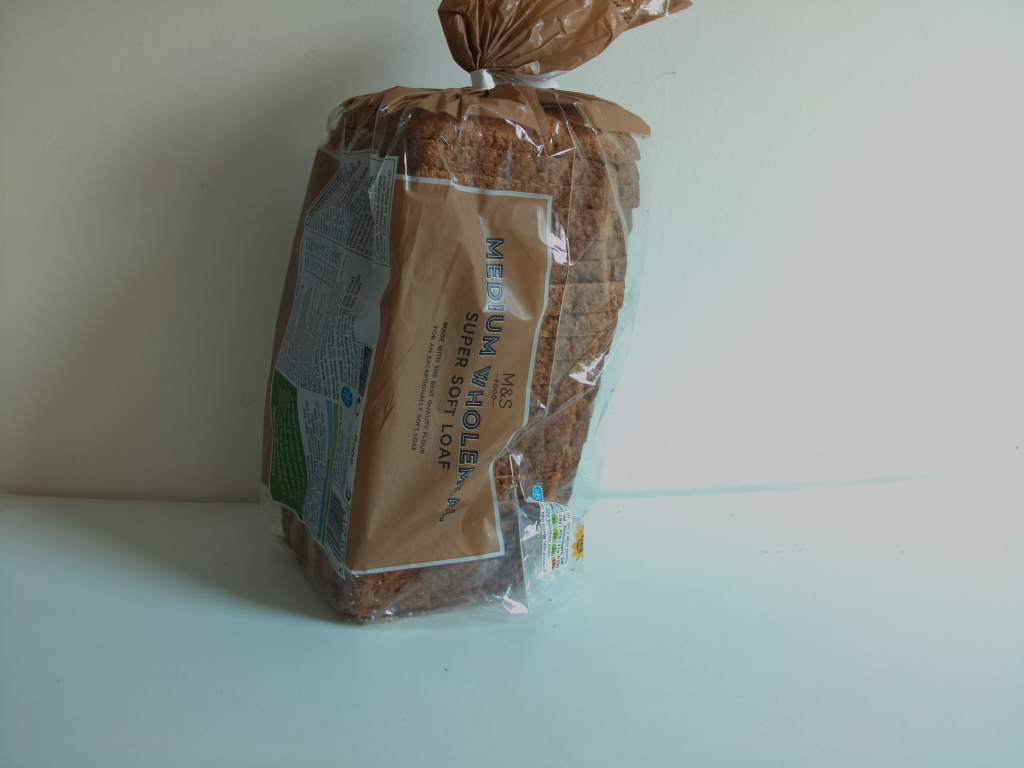bread: (256, 1, 705, 631)
